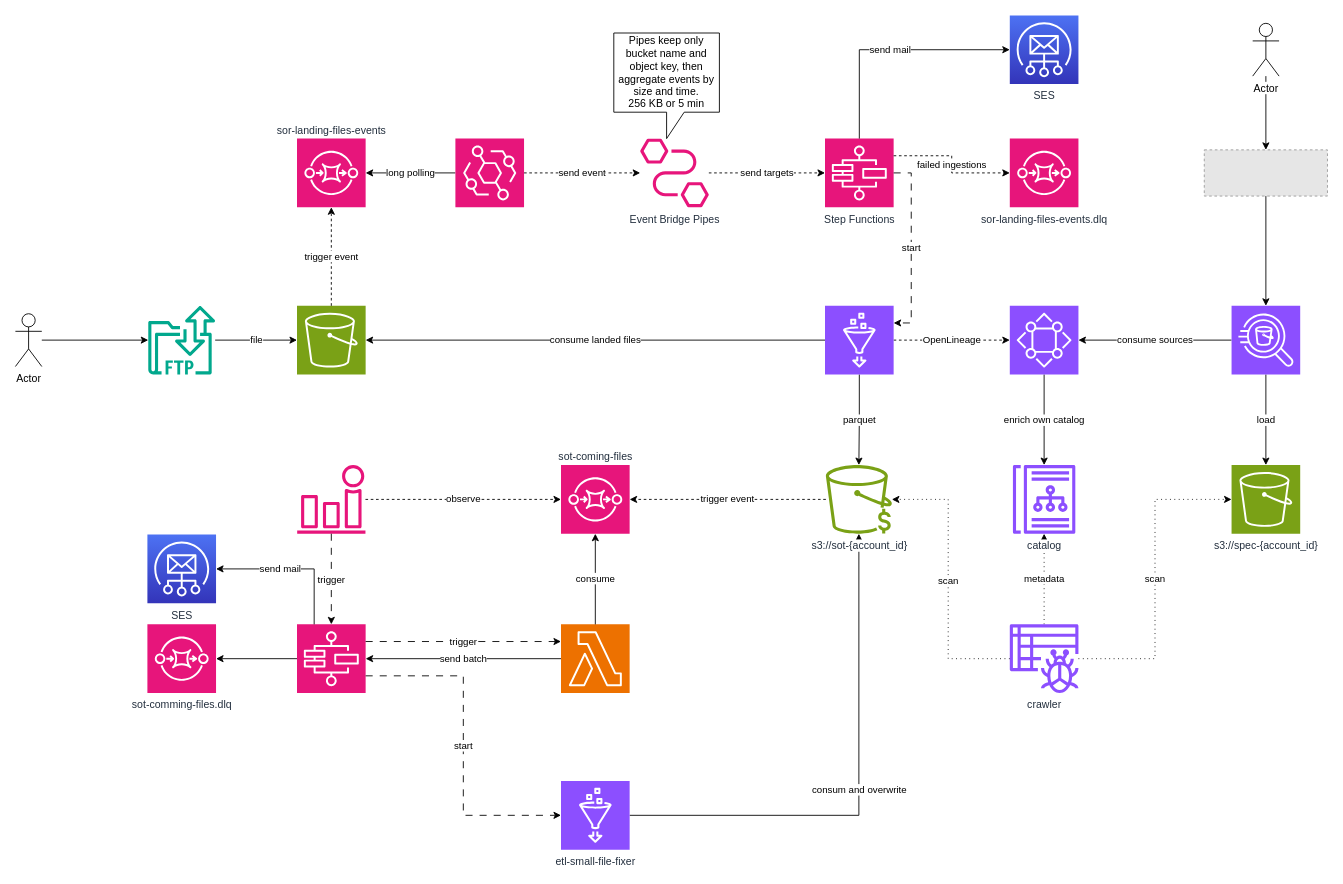
Image size: 1343x884. Some labels were removed from this diagram. Grey dashed boxes stand in for pictures. The box of each missing label's shape, as (x1, y1, x2, y2) in pixels:
Athena: (1231, 305, 1300, 374)
CW Alarm: (297, 465, 365, 533)
DataZone: (1009, 305, 1078, 374)
etl-silver: (824, 305, 894, 374)
Event Bridge: (455, 138, 524, 207)
s3://sor-{account_id}: (296, 305, 366, 374)
sf-small-file-fixer: (296, 623, 366, 693)
sot-comming: (560, 623, 630, 693)
